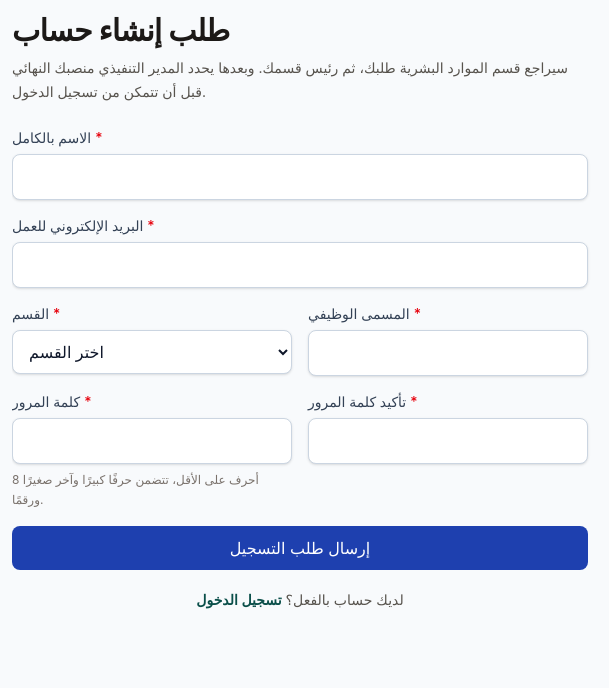
it: RegisterPage validation › shows Arabic validation errors without creating an account
Type "Taylor Morgan" into the field labelled "الاسم بالكامل*" at x=300, y=177, box [12, 154, 588, 200]
Type "taylor@example.com" into the field labelled "البريد الإلكتروني للعمل*" at x=300, y=265, box [12, 242, 588, 288]
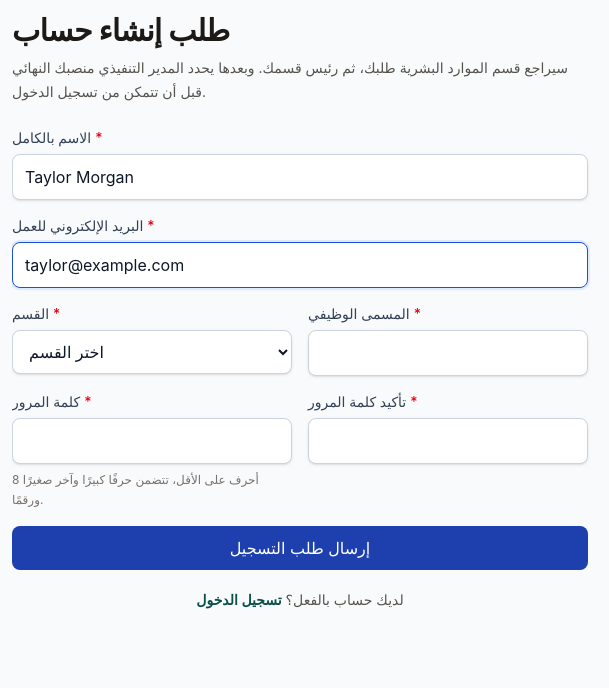
Select "Engineering" in the dropdown labelled "القسم*" at x=152, y=352, box [12, 330, 292, 374]
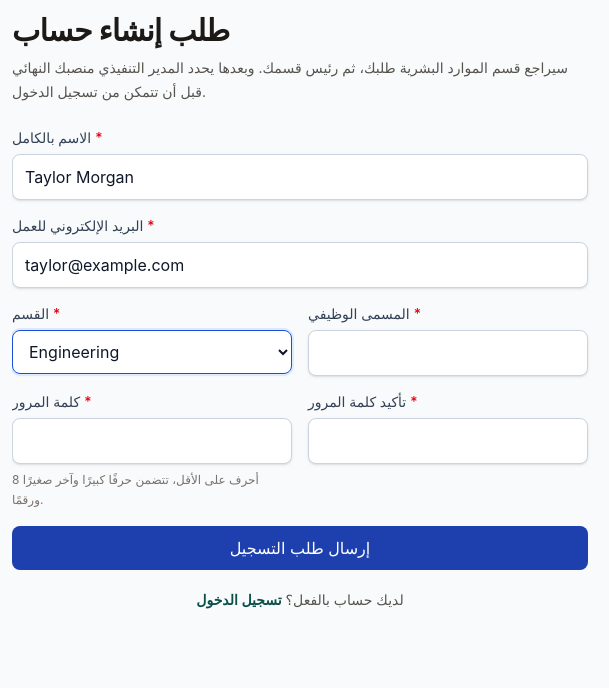
Type "Analyst" into the field labelled "المسمى الوظيفي*" at x=448, y=353, box [308, 330, 588, 376]
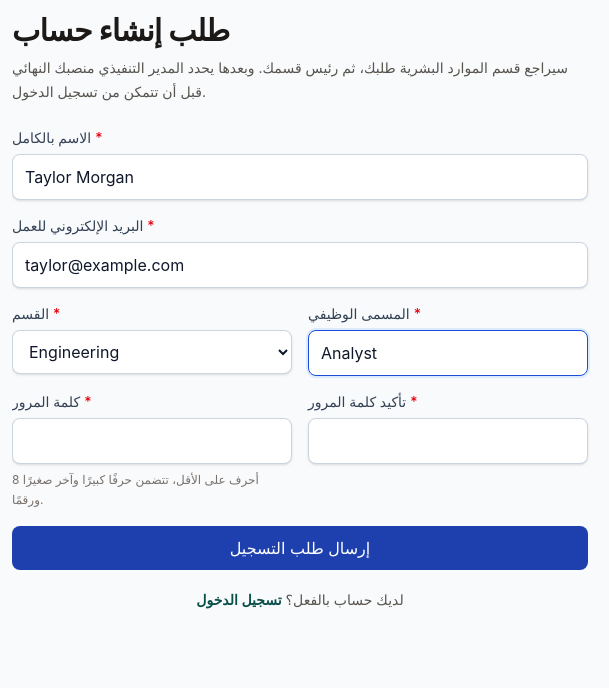
Type "StrongPass1" into the password field labelled "كلمة المرور*" at x=152, y=441, box [12, 418, 292, 464]
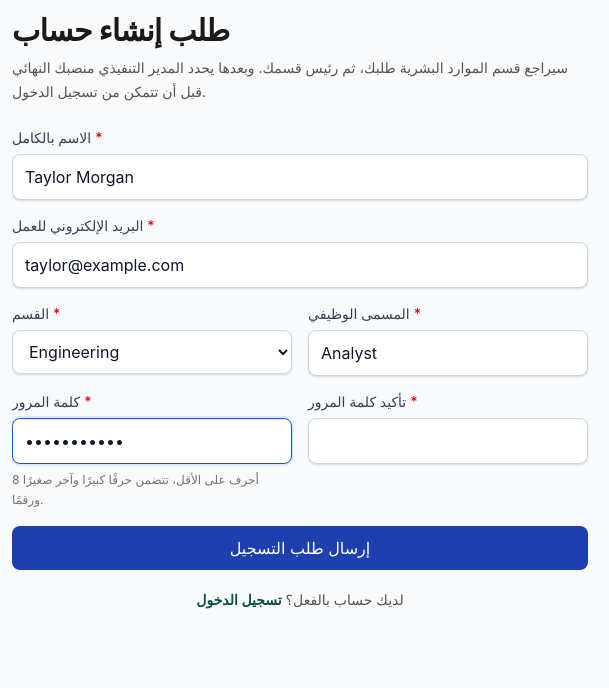
Type "DifferentPass2" into the password field labelled "تأكيد كلمة المرور*" at x=448, y=441, box [308, 418, 588, 464]
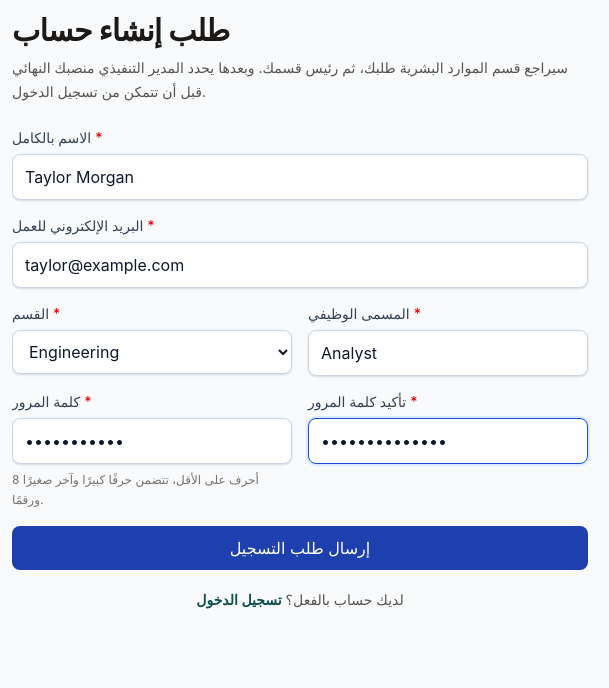
Click the button "إرسال طلب التسجيل" at x=300, y=548, box [12, 526, 588, 570]
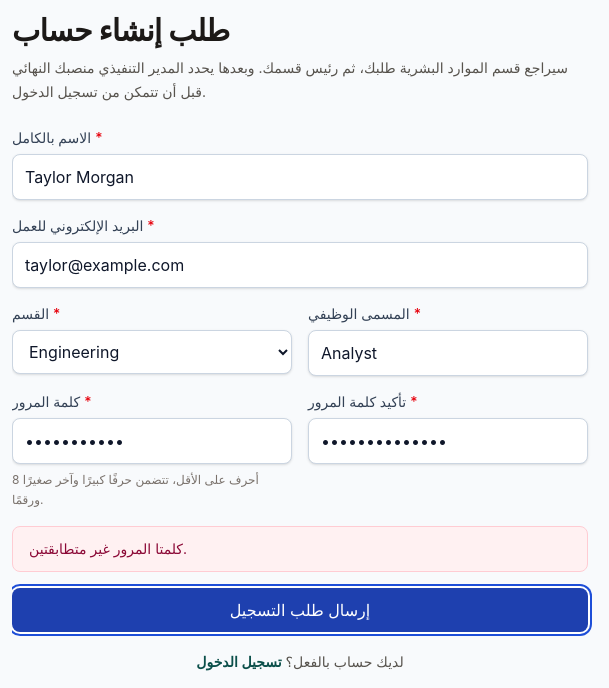
Expected: the message reads "كلمتا المرور غير متطابقتين.", [29, 540, 187, 557]
